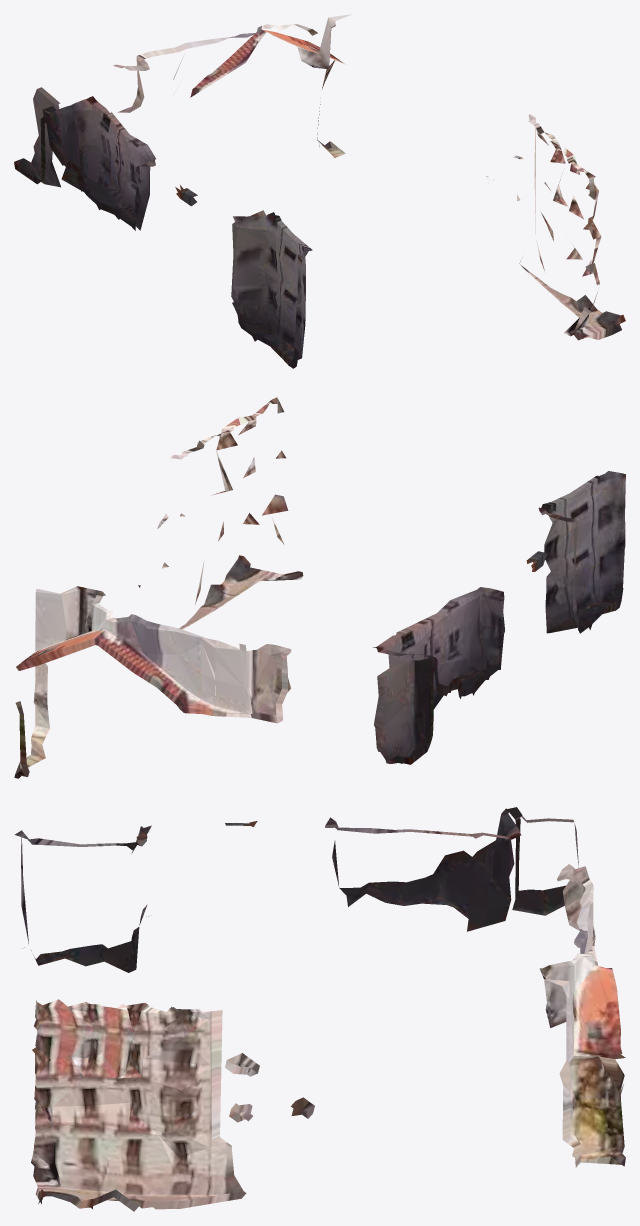
The picture shows the model from 3 angles, top to bottom: view 1: azimuth 30°, elevation 25°; view 2: azimuth 150°, elevation 25°; view 3: azimuth 270°, elevation 25°; orthographic projection. The views are drawn at different scales.
Parts seen in each view (by area): view 1: Mesh_0; view 2: Mesh_0; view 3: Mesh_0.
Boxes of the visible parts, left/top/right/bottom form: Mesh_0: left=14, top=14, right=625, bottom=368; Mesh_0: left=14, top=397, right=625, bottom=778; Mesh_0: left=14, top=807, right=625, bottom=1211.
Bounding box in the file's own units: 33.44 × 14.63 × 39.88.
1 material, 1 textured.
